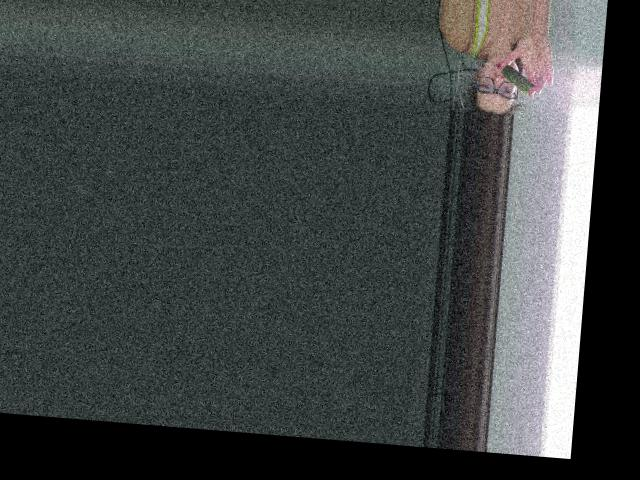cucumber: (499, 65, 533, 94)
